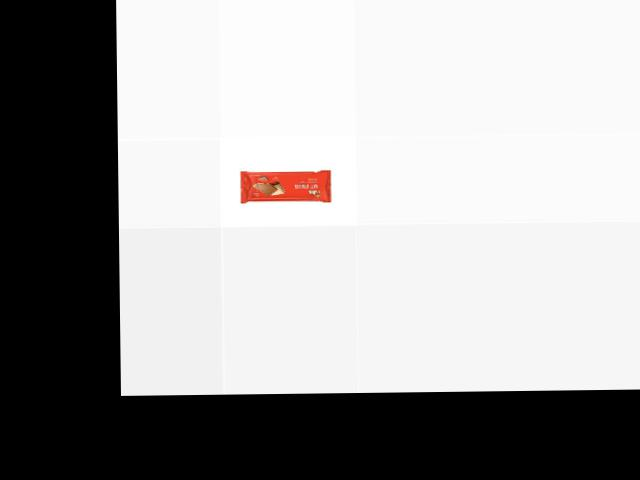chocolate: (240, 169, 334, 203)
